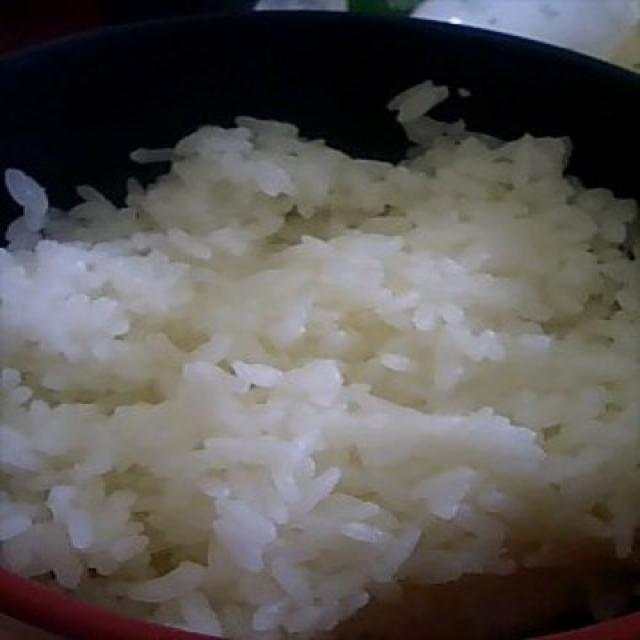Rice: (0, 134, 635, 606)
